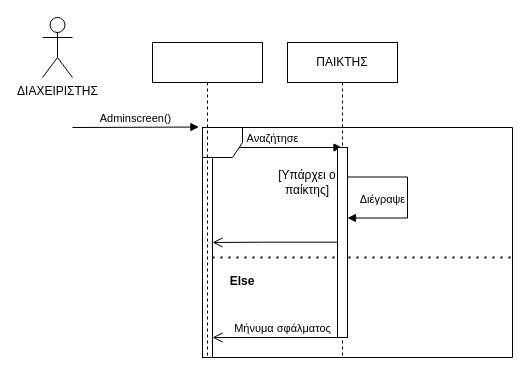
Some shapes in this 532 by 375 pixel diagram are drawn without their labels. The shapes that lost their labels are listed below. From the top down, each one's box as (x1, y1, x2, y2) in pixels, then its label:
(152, 42, 262, 358): ΟΘΟΝΗ ΔΙΑΧΕΙΡΙΣΤΗ GUI
(202, 126, 512, 358): IF
